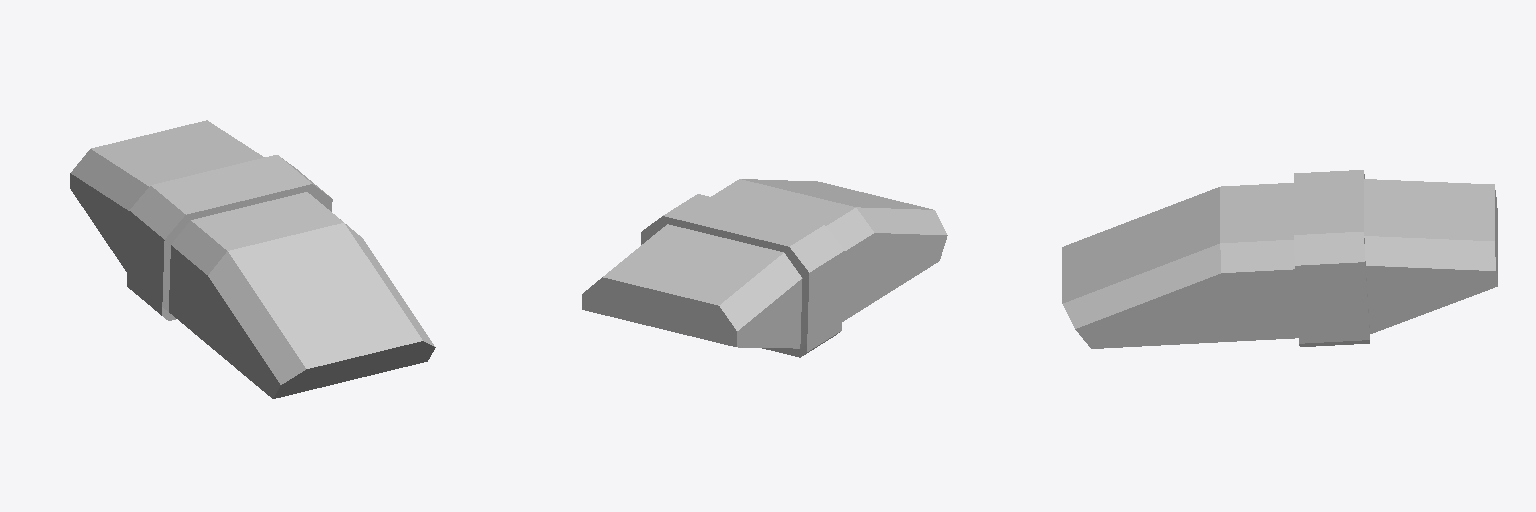
File: DuelTank_Turret_smooth_moved.obj
The picture shows the model from 3 angles: view 1: azimuth 30°, elevation 25°; view 2: azimuth 150°, elevation 25°; view 3: azimuth 270°, elevation 25°; orthographic projection.
Parts seen in each view (by area): view 1: Cube.001_Cube.002; view 2: Cube.001_Cube.002; view 3: Cube.001_Cube.002.
Boxes of the visible parts, <box> form: Cube.001_Cube.002: <box>70,120,435,398</box>; Cube.001_Cube.002: <box>582,179,947,357</box>; Cube.001_Cube.002: <box>1062,170,1497,348</box>.
Size of the model in its own units: 1.31 by 0.8279 by 2.95.